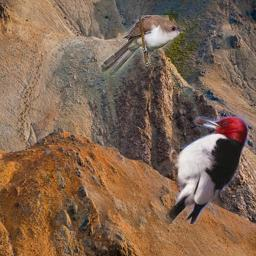Cuckoo: (98, 15, 186, 77)
Woodpecker: (166, 116, 248, 224)
